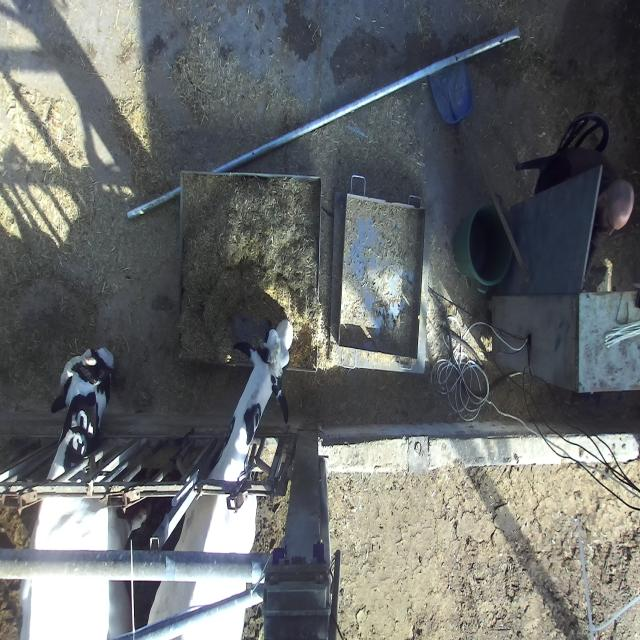cow: (230, 318, 295, 425), (51, 340, 116, 434)
